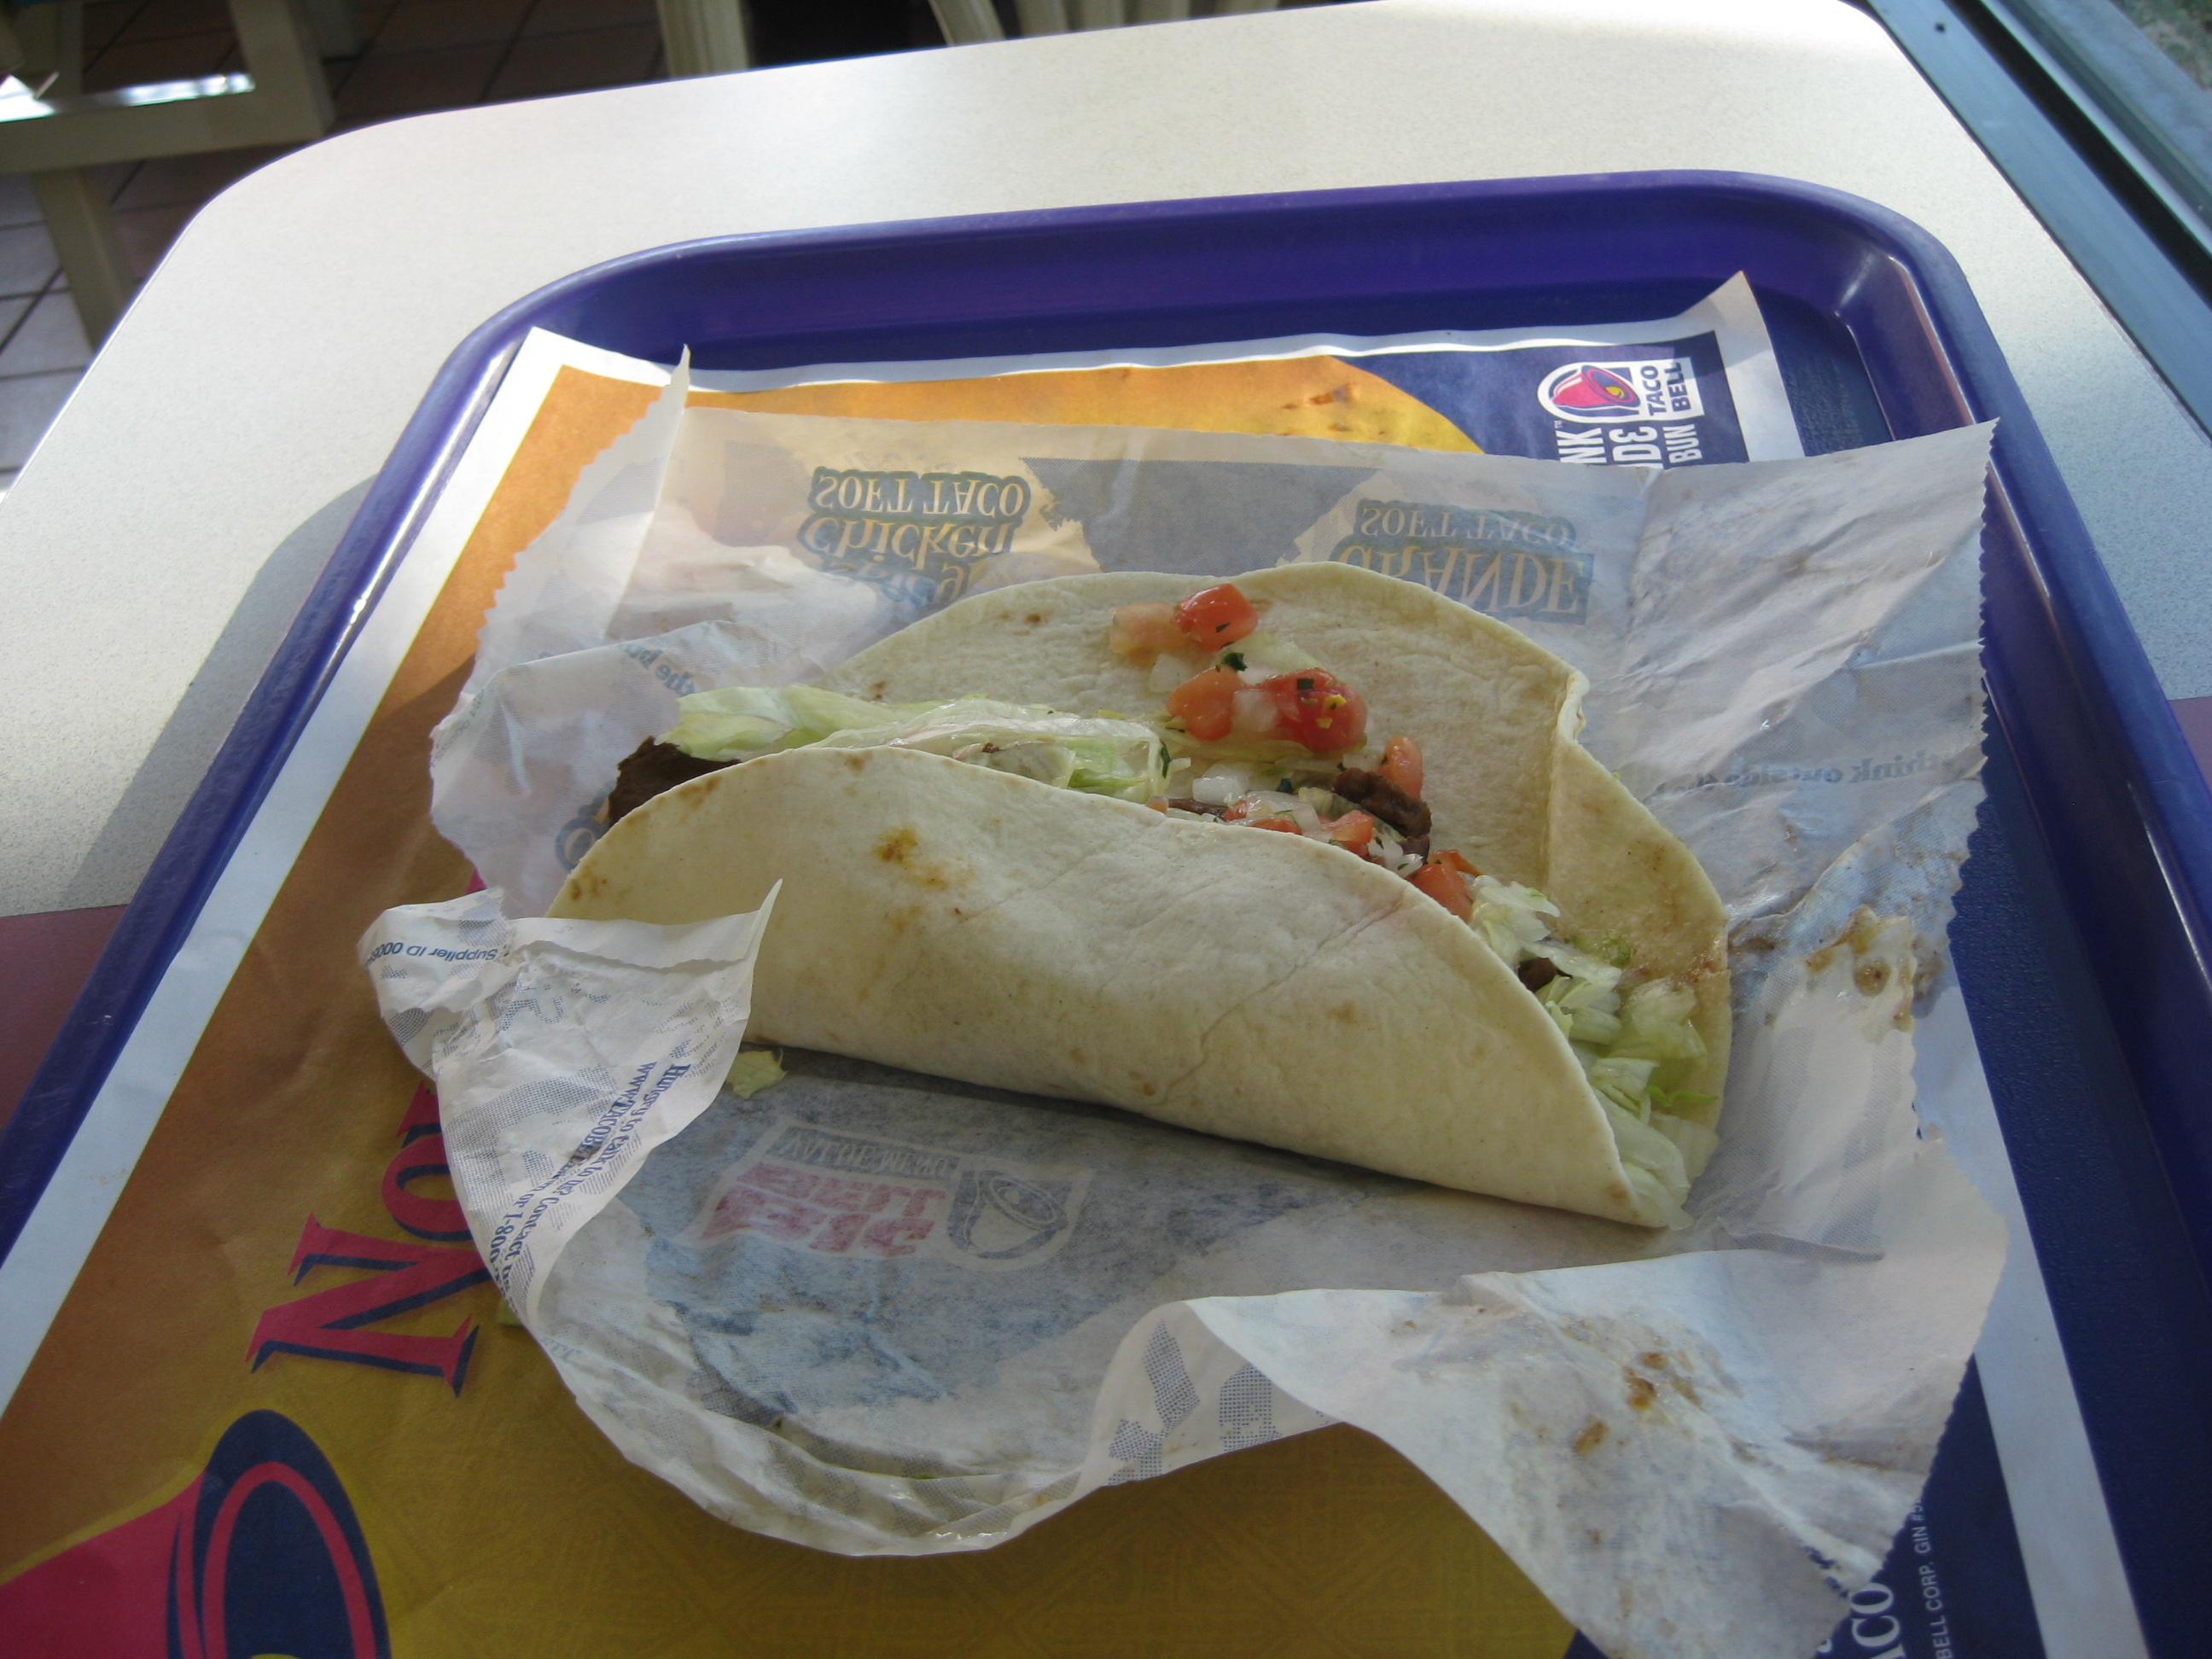taco: (539, 548, 1845, 1296)
